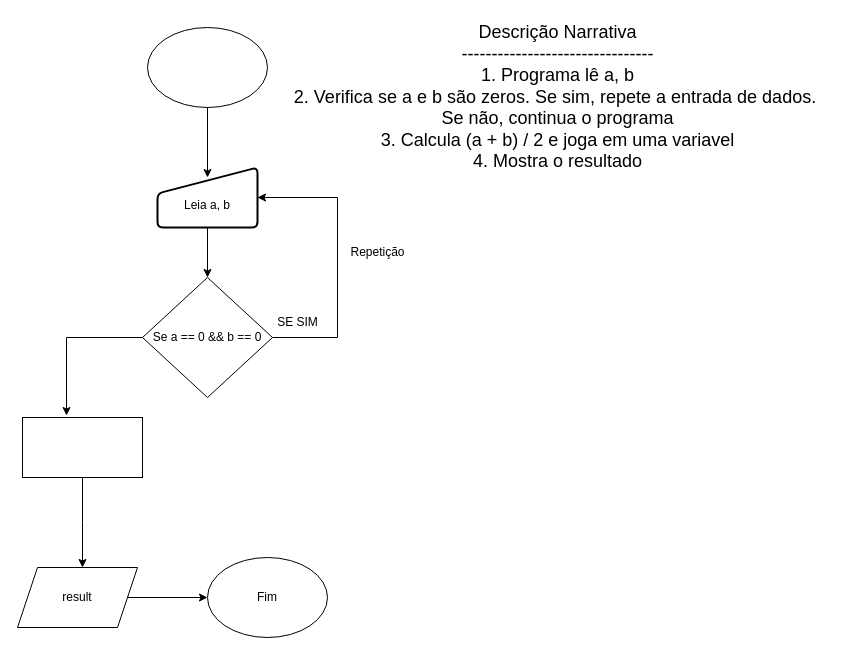
Image size: 850x655. Some labels were removed from this diagram. Each missing label, with the centre of its shape:
Inicio: point (207, 67)
result = (a + b) / 2: point (82, 447)
